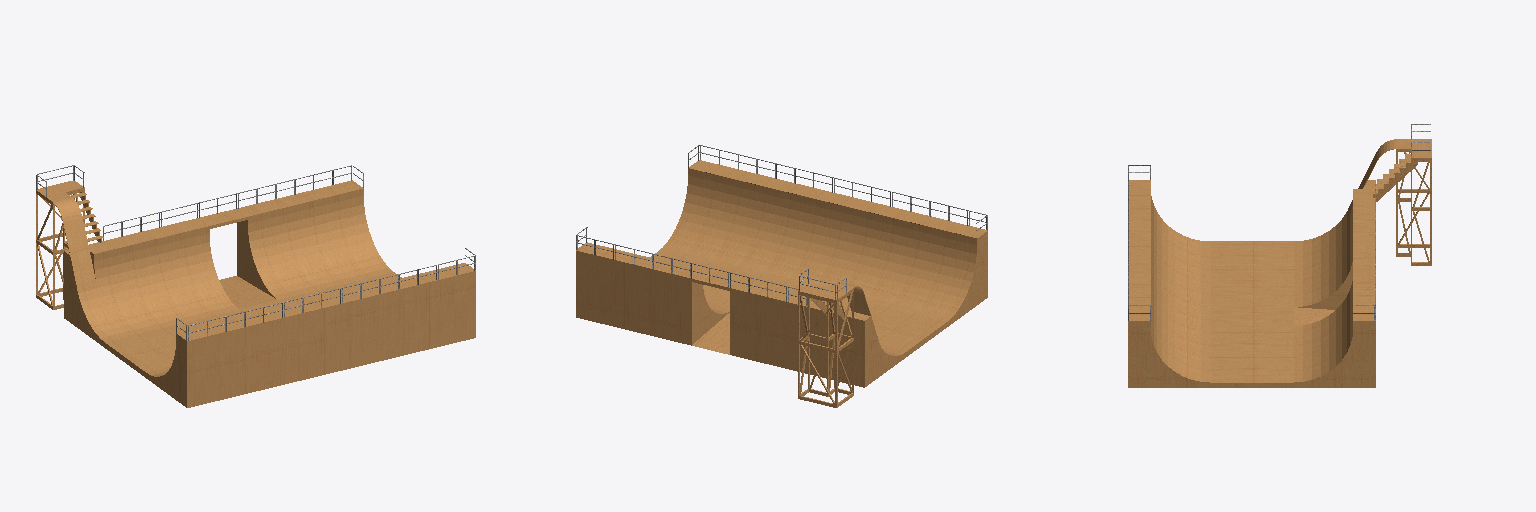
3 renders of one model, left to right at view 1: azimuth 30°, elevation 25°; view 2: azimuth 150°, elevation 25°; view 3: azimuth 270°, elevation 25°, orthographic.
Parts seen in each view (by area): view 1: polySurface152_RampMain_mat_0, polySurface30_aiStandardSurface5_0, polySurface188_RampStairs_Mat_0; view 2: polySurface152_RampMain_mat_0, polySurface188_RampStairs_Mat_0, polySurface30_aiStandardSurface5_0; view 3: polySurface152_RampMain_mat_0, polySurface188_RampStairs_Mat_0, polySurface30_aiStandardSurface5_0.
Boxes of the visible parts, x1,y1,x2,y2 form: polySurface152_RampMain_mat_0: [36, 180, 475, 407]; polySurface30_aiStandardSurface5_0: [36, 165, 475, 340]; polySurface188_RampStairs_Mat_0: [36, 188, 103, 309]; polySurface152_RampMain_mat_0: [576, 160, 987, 387]; polySurface188_RampStairs_Mat_0: [798, 289, 853, 407]; polySurface30_aiStandardSurface5_0: [576, 145, 987, 306]; polySurface152_RampMain_mat_0: [1128, 139, 1431, 387]; polySurface188_RampStairs_Mat_0: [1372, 149, 1431, 265]; polySurface30_aiStandardSurface5_0: [1128, 124, 1430, 320].
Bounding box in the file's own units: 58.64 × 23.89 × 53.27.
Materials: 3 (3 with a texture image).